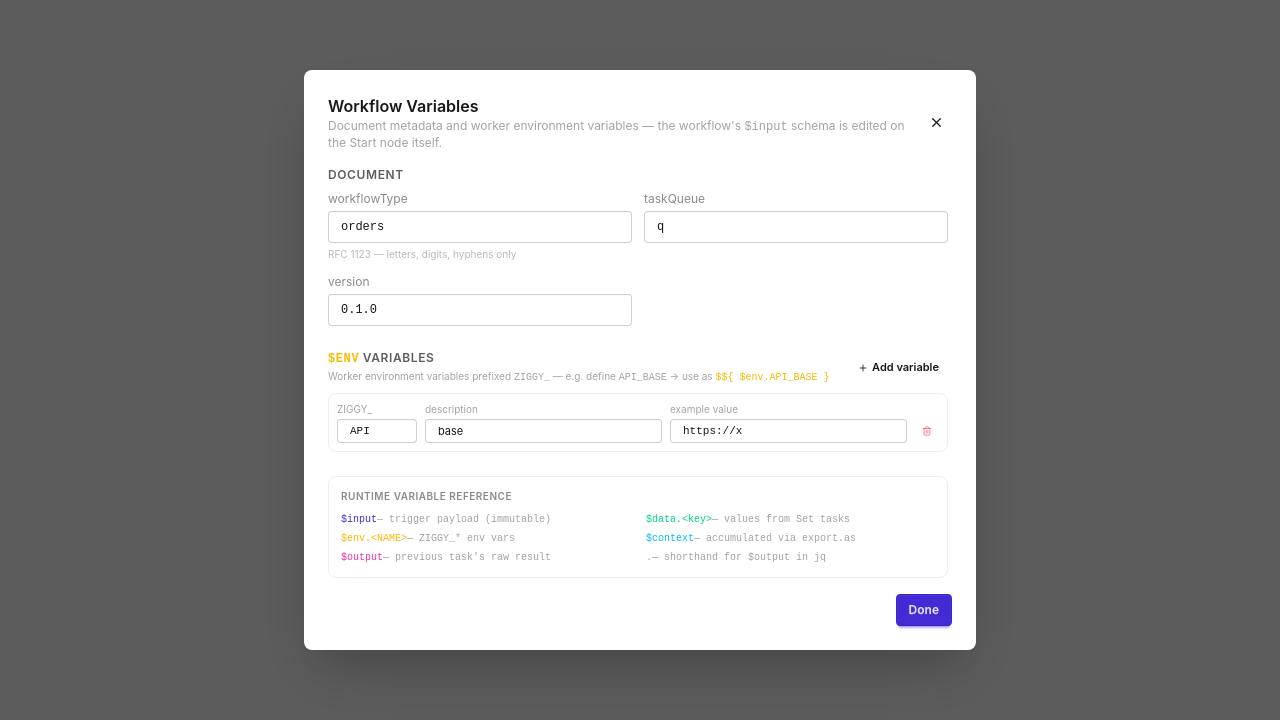
Test case: WorkflowVariablesModal › adds, edits and removes env vars
Click the button "Add variable". click: (899, 368)
box: [849,356,948,380]
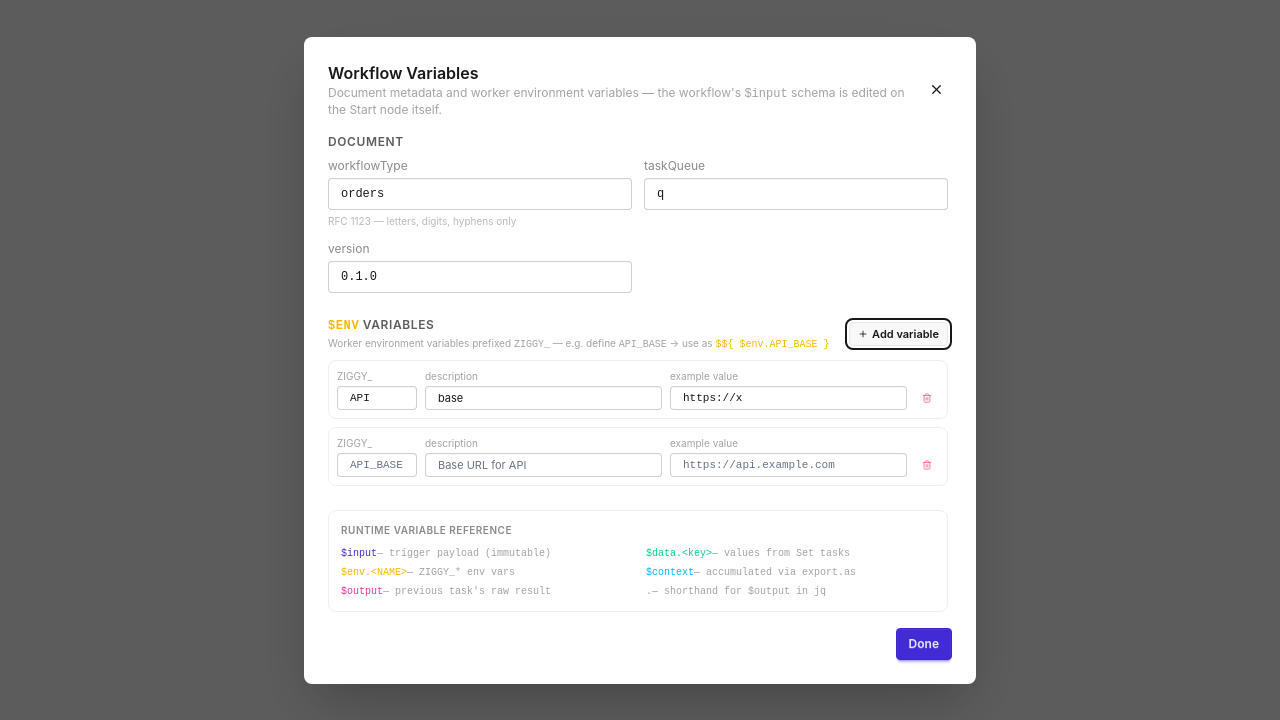
Type "TOKEN" into the field with placeholder "API_BASE". click: (377, 464)
box: [337,452,417,476]
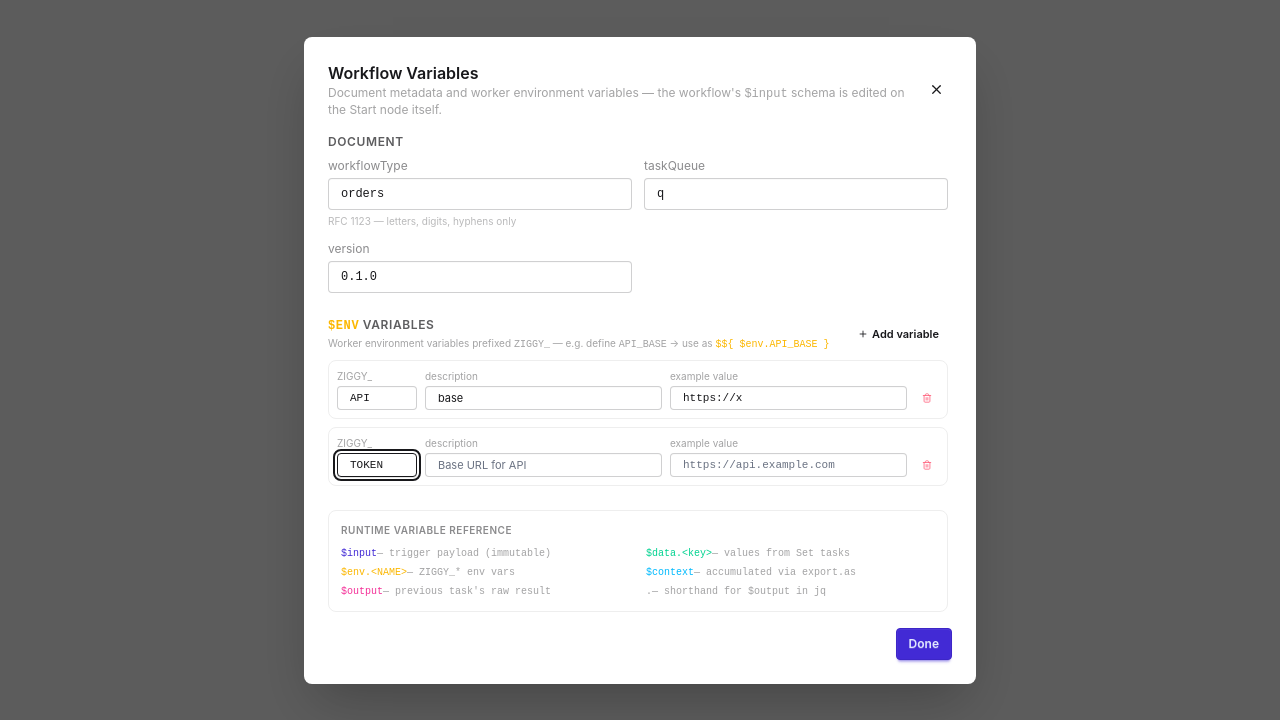
Type "auth" into the field with placeholder "Base URL for API". click: (544, 464)
box: [425,452,662,476]
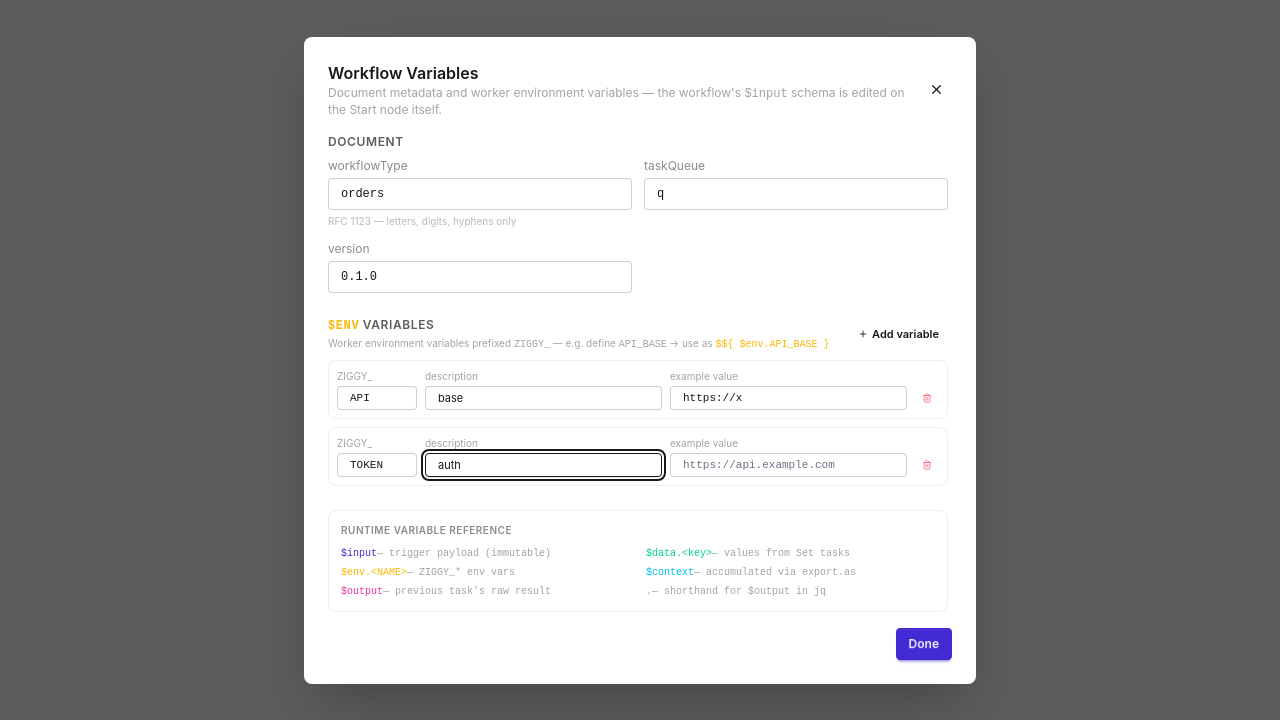
Type "abc" into the field with placeholder "https://api.example.com". click: (788, 464)
box: [670,452,907,476]
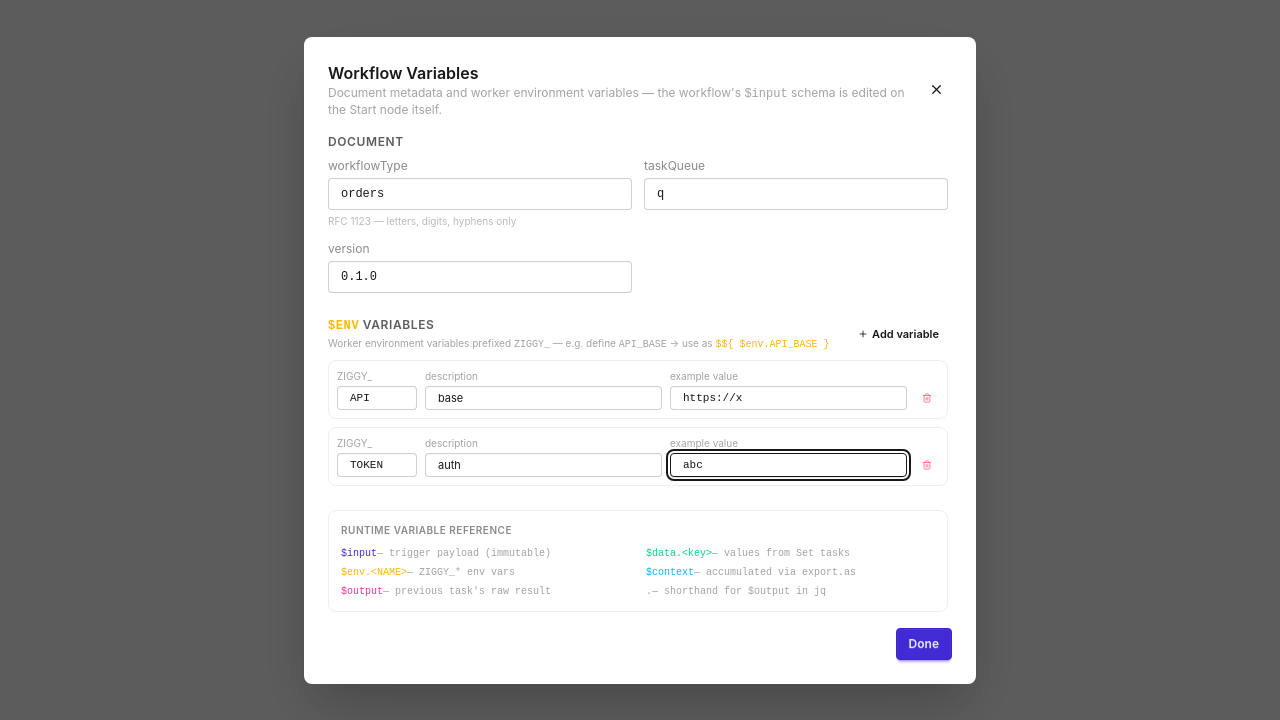
Click the 1st button named "Remove env var". click: (927, 398)
box: [915,386,939,410]
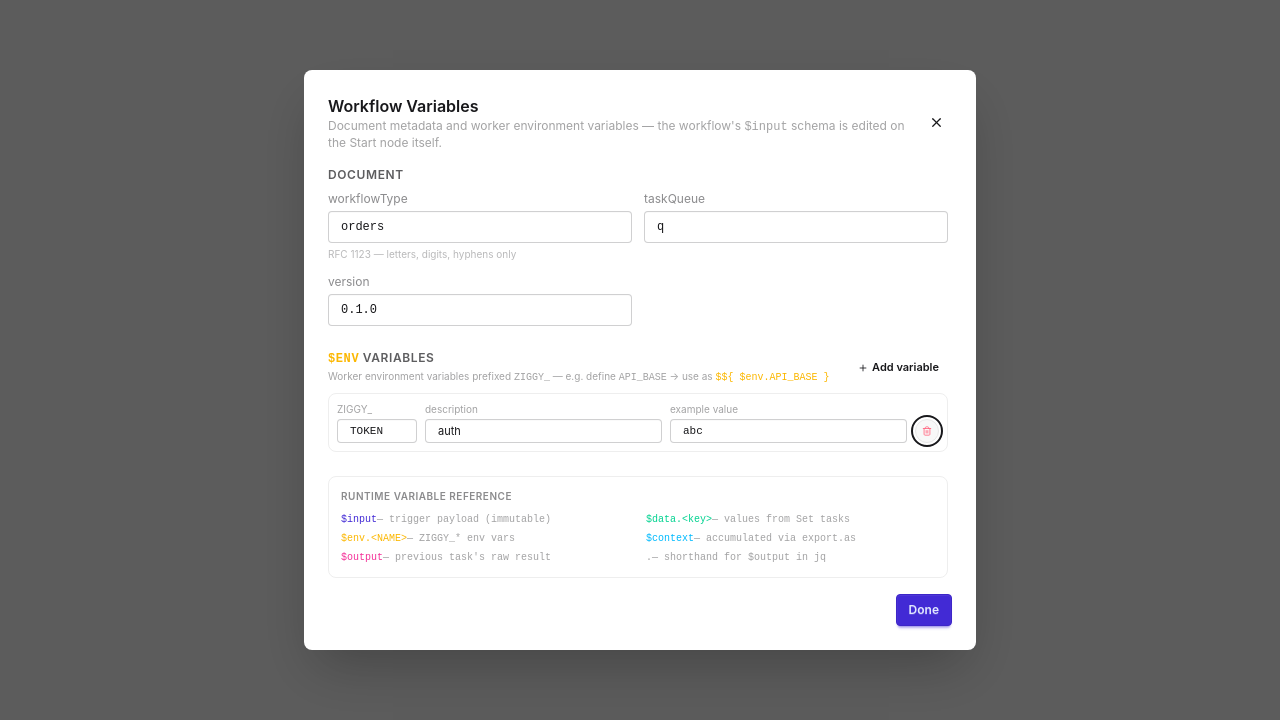
Click the button named "Remove env var". click: (927, 431)
box: [915,419,939,443]
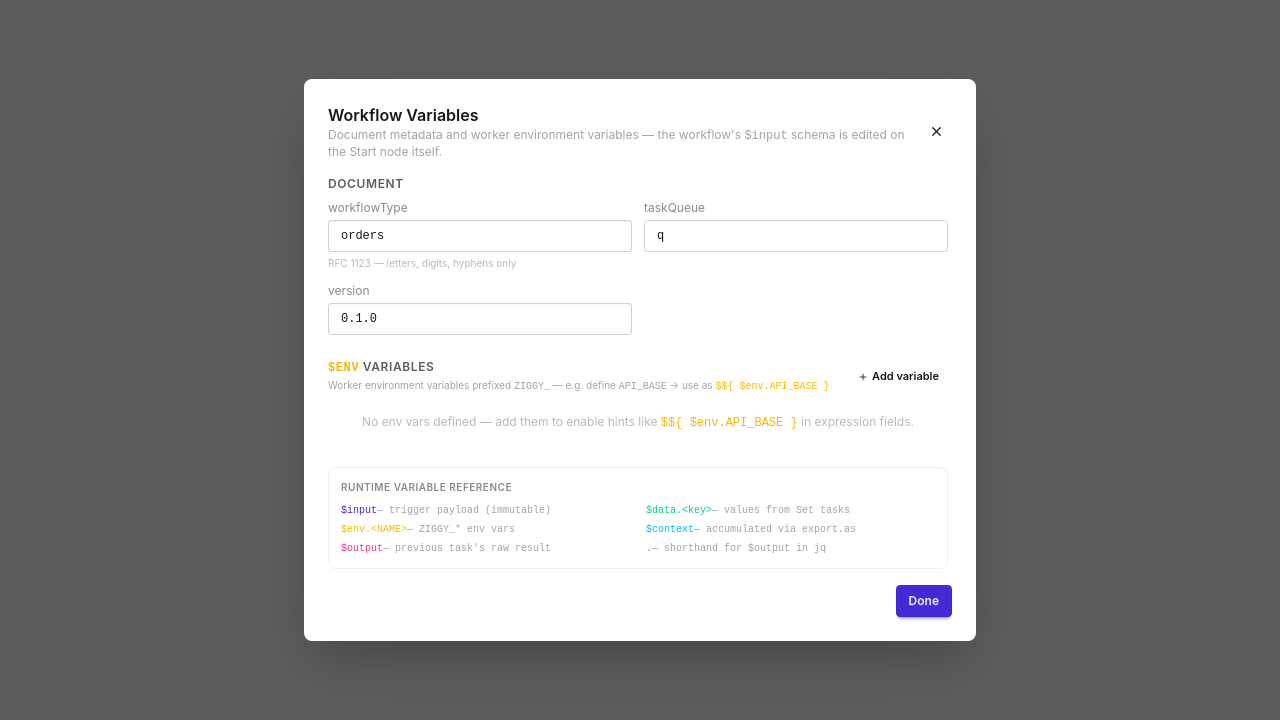
Result: the text "No env vars defined" is shown at [362,414,661,429]
